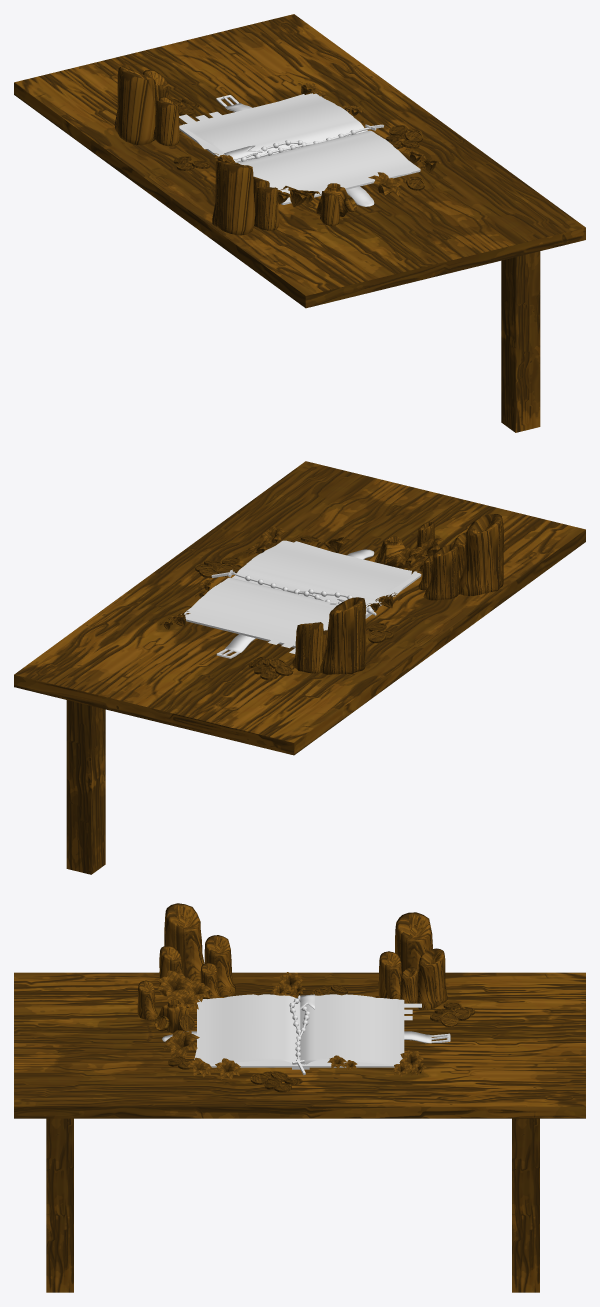
File: libro_pausemenu.fbx
The picture shows the model from 3 angles, top to bottom: view 1: azimuth 30°, elevation 25°; view 2: azimuth 150°, elevation 25°; view 3: azimuth 270°, elevation 25°; orthographic projection. The views are drawn at different scales.
Visible parts, largest first — view 1: Cube.007, Plane.001, Plane.007, VELA_LOWPOLY.004, VELA_LOWPOLY, VELA_LOWPOLY.001, VELA_LOWPOLY.005, VELA_LOWPOLY.008; view 2: Cube.007, Plane.001, Plane.007, VELA_LOWPOLY.004, VELA_LOWPOLY, VELA_LOWPOLY.006, VELA_LOWPOLY.002, TINTA; view 3: Cube.007, Plane.001, Plane.007, VELA_LOWPOLY.004, VELA_LOWPOLY, VELA_LOWPOLY.002, VELA_LOWPOLY.006, VELA_LOWPOLY.001, Cube, VELA_LOWPOLY.008, Plane.006, Plane.013 (+4 smaller).
Boxes of the visible parts, x1,y1,x2,y2 form: Cube.007: (14, 14, 585, 432); Plane.001: (237, 130, 418, 202); Plane.007: (181, 93, 365, 162); VELA_LOWPOLY.004: (212, 161, 255, 235); VELA_LOWPOLY: (114, 67, 157, 145); VELA_LOWPOLY.001: (153, 100, 179, 146); VELA_LOWPOLY.005: (254, 187, 278, 230); VELA_LOWPOLY.008: (320, 191, 339, 226); Cube.007: (14, 461, 585, 874); Plane.001: (234, 540, 418, 608); Plane.007: (184, 577, 366, 645); VELA_LOWPOLY.004: (459, 514, 503, 595); VELA_LOWPOLY: (320, 597, 366, 674); VELA_LOWPOLY.006: (423, 544, 459, 600); VELA_LOWPOLY.002: (292, 622, 323, 673); TINTA: (377, 536, 411, 568); Cube.007: (14, 972, 585, 1292); Plane.001: (194, 994, 299, 1064); Plane.007: (300, 994, 403, 1064); VELA_LOWPOLY.004: (164, 903, 204, 984); VELA_LOWPOLY: (395, 912, 432, 972); VELA_LOWPOLY.002: (417, 948, 447, 1009); VELA_LOWPOLY.006: (204, 935, 235, 997); VELA_LOWPOLY.001: (378, 951, 401, 999); Cube: (198, 999, 404, 1069); VELA_LOWPOLY.008: (137, 980, 157, 1020); Plane.006: (157, 970, 193, 1001); Plane.013: (163, 1030, 199, 1057).
Bounding box in the file's own units: 3586 × 3328 × 6396.
